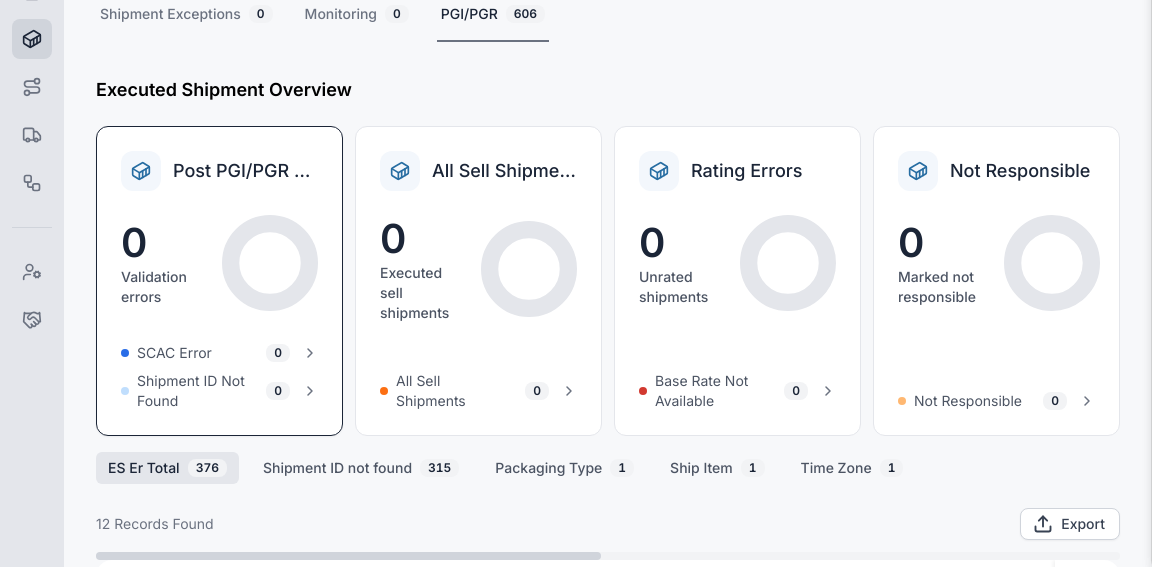
ExecutedShipmentDetailsRoute — sheet policy (S159) › READ-ONLY: success alert replaces the EDIT error alert
Expected: the heading "Executed Shipment Overview" is shown, [96,79,352,100]
Click the 1st text "All Sell Shipments": (504, 171) [432,157,577,185]
(page scrolled)
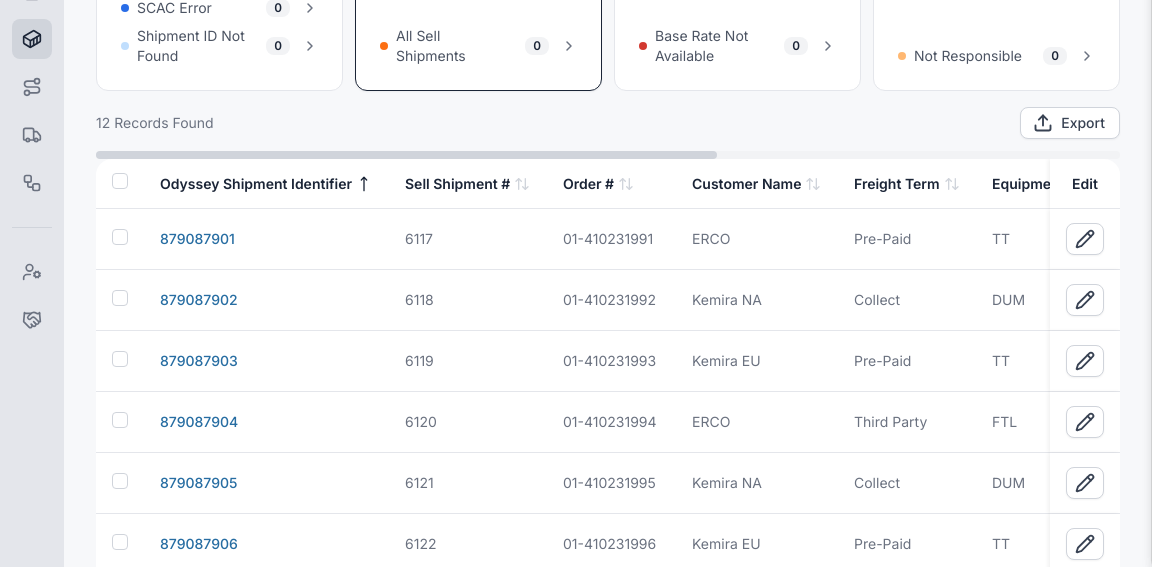
Click the button "879087901": (197, 239) [160,229,235,249]
(page scrolled)
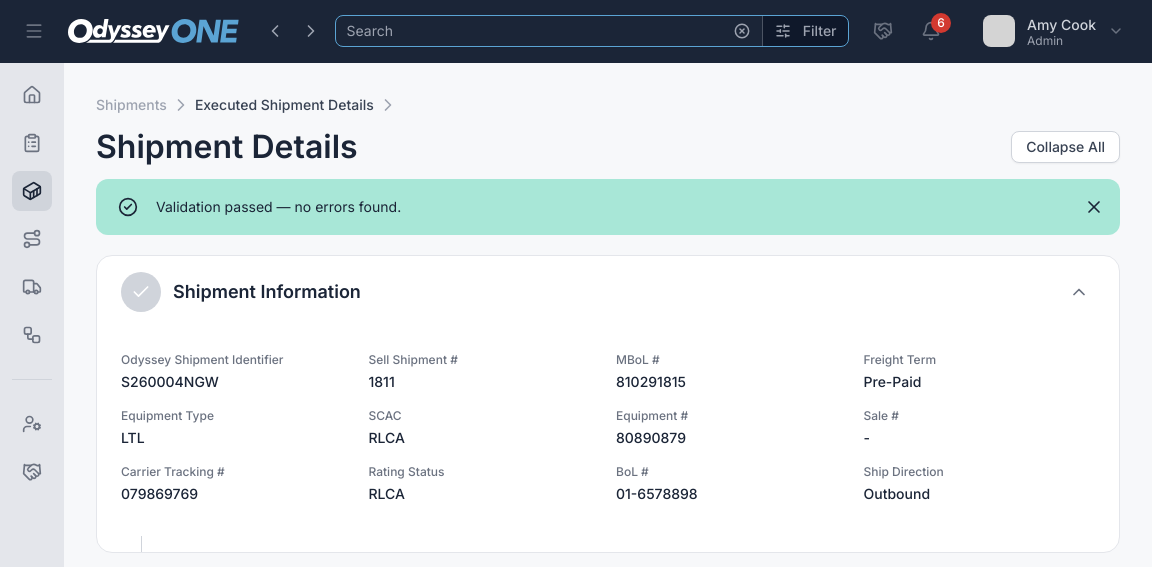
Expected: the heading "Shipment Details" is shown, [96,131,358,163]
Expected: the text "Validation passed — no errors found." is shown, [156,198,401,215]
